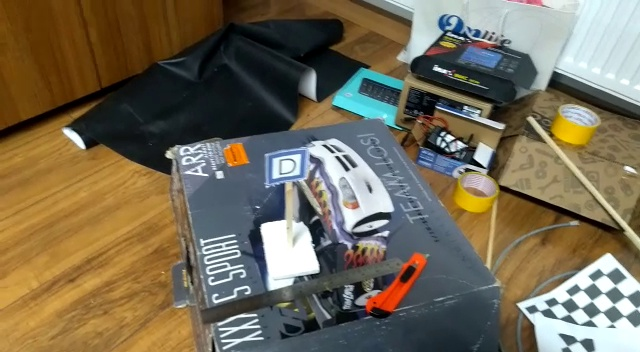durak: (261, 147, 313, 186)
